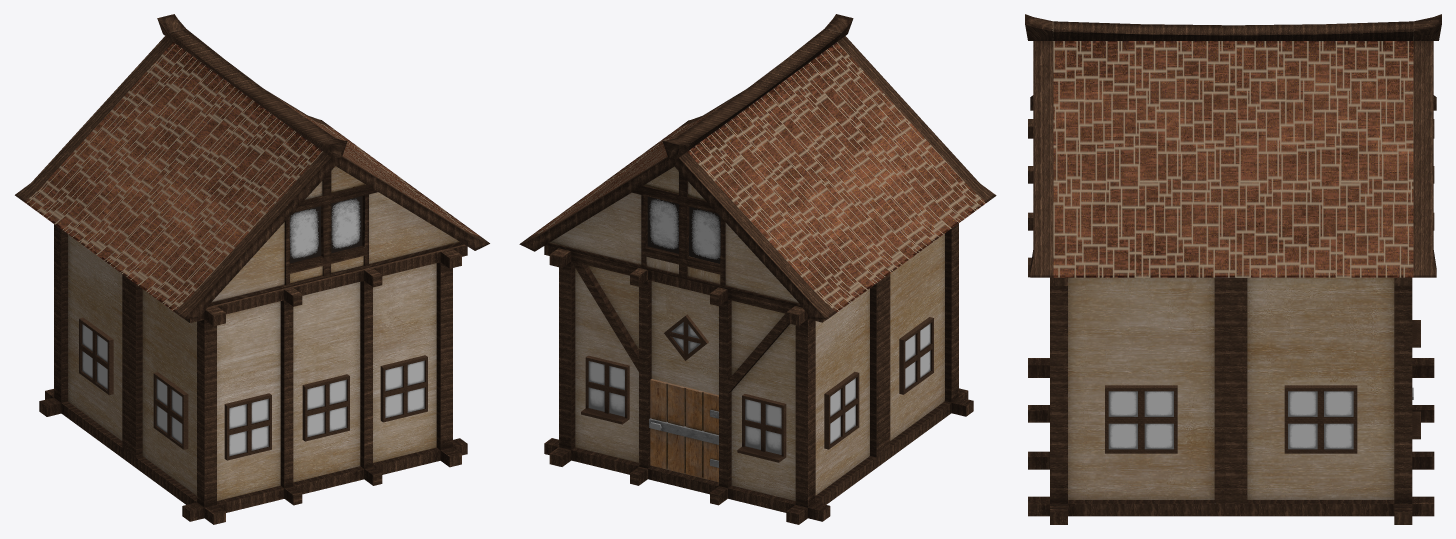
File: House_1.fbx
The picture shows the model from 3 angles, left to right: view 1: azimuth 30°, elevation 25°; view 2: azimuth 150°, elevation 25°; view 3: azimuth 270°, elevation 25°; orthographic projection. The views are drawn at different scales.
Parts seen in each view (by area): view 1: block18, roof15, window103, window102, window108, window105, window104; view 2: roof15, block18, door16, window107, window100, window104, window105, Window7; view 3: roof15, block18, window99, window101.
Part boxes in pixels (left/top/right/bottom): block18: left=39, top=224, right=467, bottom=524; roof15: left=15, top=14, right=489, bottom=318; window103: left=302, top=374, right=349, bottom=441; window102: left=380, top=355, right=427, bottom=422; window108: left=224, top=393, right=271, bottom=460; window105: left=153, top=372, right=188, bottom=449; window104: left=79, top=317, right=113, bottom=395; roof15: left=519, top=14, right=996, bottom=319; block18: left=544, top=223, right=973, bottom=524; door16: left=649, top=379, right=718, bottom=481; window107: left=737, top=394, right=786, bottom=462; window100: left=581, top=355, right=629, bottom=424; window104: left=824, top=371, right=859, bottom=449; window105: left=899, top=317, right=933, bottom=394; Window7: left=664, top=314, right=708, bottom=360; roof15: left=1025, top=14, right=1441, bottom=277; block18: left=1028, top=119, right=1434, bottom=524; window99: left=1284, top=385, right=1357, bottom=453; window101: left=1105, top=385, right=1177, bottom=453.
Size of the model in its own units: 10.08 by 11.06 by 9.84.
